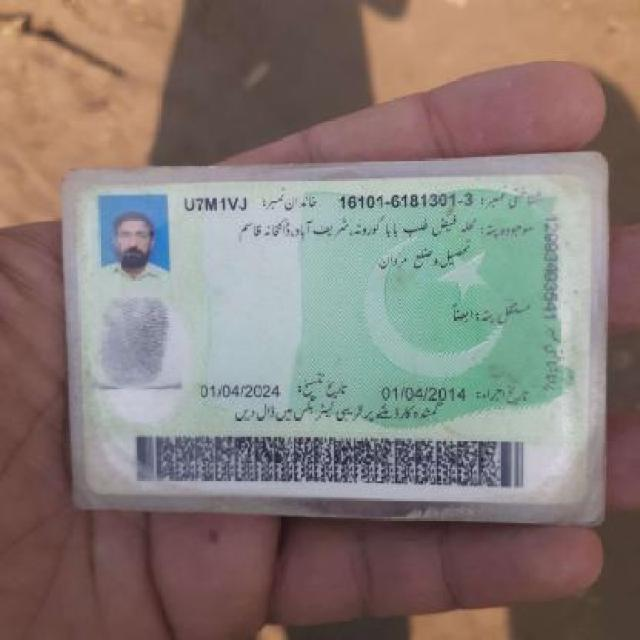Back: (68, 164, 597, 522)
